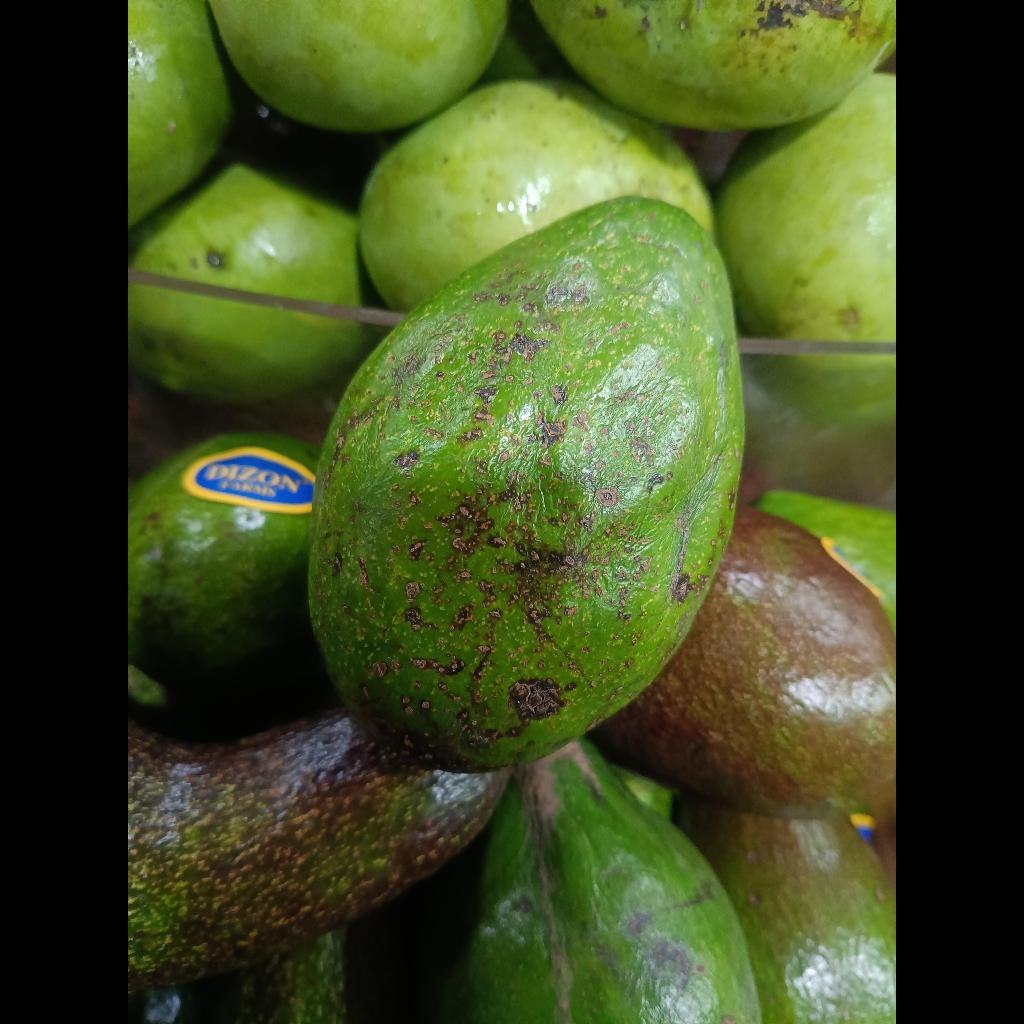healthy: (309, 199, 742, 770)
